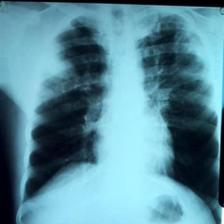tuberculosis: (18, 7, 221, 204)
